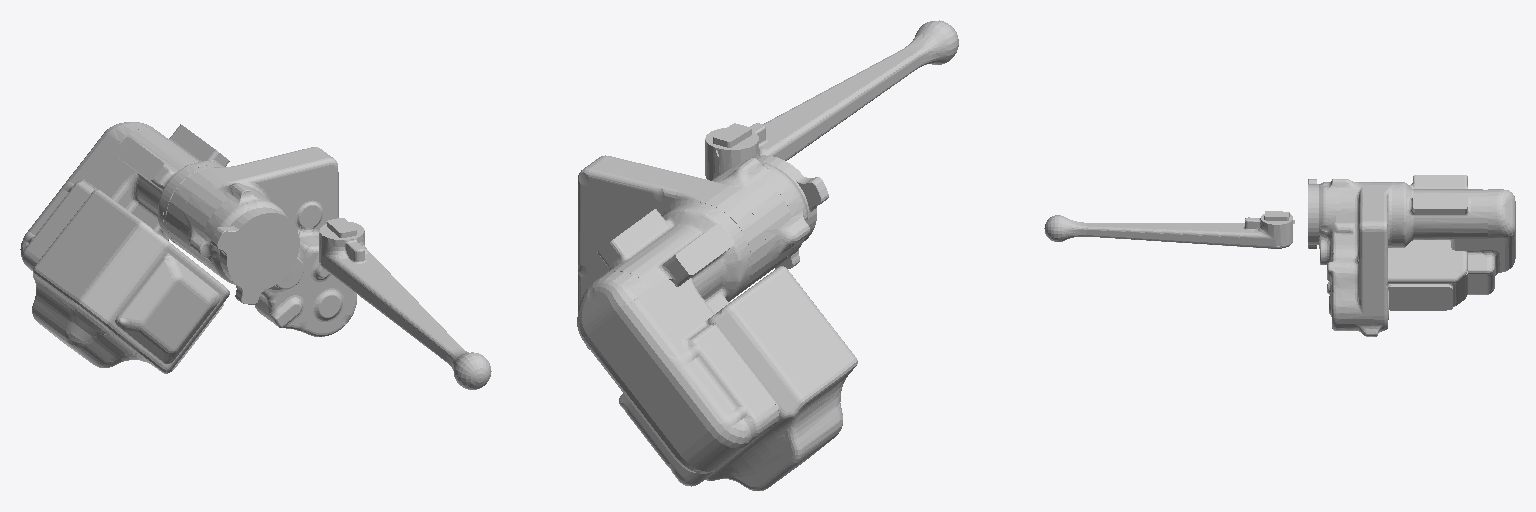
The robot description file, URDF, robot "manipulator":
<?xml version="1.0" ?>
<!-- =================================================================================== -->
<!-- |    This document was autogenerated by xacro from [local-path]/dev/workspace/src/catkin/robots/robot_properties/robot_properties_manipulator/xacro/manipulator.urdf.xacro | -->
<!-- |    EDITING THIS FILE BY HAND IS NOT RECOMMENDED                                 | -->
<!-- =================================================================================== -->
<robot name="manipulator" xmlns:controller="http://playerstage.sourceforge.net/gazebo/xmlschema/#controller" xmlns:interface="http://playerstage.sourceforge.net/gazebo/xmlschema/#interface" xmlns:sensor="http://playerstage.sourceforge.net/gazebo/xmlschema/#sensor" xmlns:xacro="http://playerstage.sourceforge.net/gazebo/xmlschema/#interface">
  <mujoco>
    <compiler balanceinertia="true" discardvisual="false" meshdir="../meshes/stl/"/>
  </mujoco>
  <!-- World Link -->
  <link name="world"/>
  <!-- Dummy Link -->
  <link name="link0"/>
  <joint name="world_joint" type="fixed">
    <parent link="world"/>
    <child link="link0"/>
    <origin rpy="0 0 0" xyz="0 0 0"/>
    <axis xyz="0 0 1"/>
  </joint>
  <joint name="holder_joint" type="fixed">
    <parent link="link0"/>
    <child link="holder_link"/>
    <origin rpy="0 0 0" xyz="0 0 0"/>
  </joint>
  <link name="holder_link">
    <inertial>
      <origin rpy="0 0 0" xyz="0 0 0"/>
      <mass value="0.1"/>
      <inertia ixx="0.000166666666667" ixy="0" ixz="0" iyy="0.000166666666667" iyz="0" izz="0.000166666666667"/>
    </inertial>
    <visual>
      <origin rpy="0 0 0" xyz="0 0 0"/>
      <geometry>
        <mesh filename="package://robot_properties_manipulator/meshes/stl/BL_Finger_Holder_SIM.stl"/>
      </geometry>
      <material name="grey">
        <color rgba="0.8 0.8 0.8 0.8"/>
      </material>
    </visual>
    <collision>
      <origin rpy="0 0 0" xyz="0 0 0"/>
      <geometry>
        <mesh filename="package://robot_properties_manipulator/meshes/stl/BL_Finger_Holder_SIM.stl"/>
      </geometry>
      <material name="grey">
        <color rgba="0.8 0.8 0.8 0.8"/>
      </material>
    </collision>
  </link>
  <joint name="holder_to_stage" type="fixed">
    <parent link="holder_link"/>
    <child link="stage_link"/>
    <origin xyz="0 0 -0.2665"/>
  </joint>
  <link name="stage_link">
    <inertial>
      <origin rpy="0 0 0" xyz="0 0 0"/>
      <mass value="5"/>
      <inertia ixx="0.108333333333" ixy="0" ixz="0" iyy="0.108333333333" iyz="0" izz="0.208333333333"/>
    </inertial>
    <visual>
      <origin rpy="0 0 0" xyz="0 0 0"/>
      <geometry>
        <mesh filename="package://robot_properties_manipulator/meshes/stl/Stage_simplified.stl"/>
      </geometry>
      <material name="grey">
        <color rgba="0.8 0.8 0.8 0.8"/>
      </material>
    </visual>
    <collision>
      <origin rpy="0 0 0" xyz="0 0 0"/>
      <geometry>
        <mesh filename="package://robot_properties_manipulator/meshes/stl/Stage_simplified.stl"/>
      </geometry>
      <material name="grey">
        <color rgba="0.8 0.8 0.8 0.8"/>
      </material>
    </collision>
  </link>
  <joint name="holder_to_proximal" type="revolute">
    <parent link="holder_link"/>
    <child link="proximal_link"/>
    <limit effort="1000" lower="0" upper="3.14159265359" velocity="1000"/>
    <axis rpy="0 0 0" xyz="0 1 0"/>
    <origin rpy="0 -1.5708 0" xyz="0 0 0"/>
  </joint>
  <link name="proximal_link">
    <inertial>
      <origin rpy="0 0 0" xyz="0 0 0"/>
      <mass value="0.18"/>
      <inertia ixx="0.00070431361566" ixy="0" ixz="0" iyy="5.721001566e-05" iyz="0" izz="0.0006948639"/>
    </inertial>
    <visual>
      <origin rpy="0 0 0" xyz="0 0 0"/>
      <geometry>
        <mesh filename="package://robot_properties_manipulator/meshes/stl/SIM__BL-Finger_Proximal.stl"/>
      </geometry>
      <material name="grey">
        <color rgba="0.8 0.8 0.8 0.8"/>
      </material>
    </visual>
    <collision>
      <origin rpy="0 0 0" xyz="0 0 0"/>
      <geometry>
        <mesh filename="package://robot_properties_manipulator/meshes/stl/SIM__BL-Finger_Proximal.stl"/>
      </geometry>
      <material name="grey">
        <color rgba="0.8 0.8 0.8 0.8"/>
      </material>
    </collision>
  </link>
  <joint name="holder_to_base" type="fixed">
    <parent link="holder_link"/>
    <child link="base_link"/>
    <origin xyz="0 0.20595 0"/>
  </joint>
  <link name="base_link">
    <inertial>
      <origin rpy="0 0 0" xyz="0 0 0"/>
      <mass value="0.1"/>
      <inertia ixx="0.000166666666667" ixy="0" ixz="0" iyy="0.000166666666667" iyz="0" izz="0.000166666666667"/>
    </inertial>
    <visual>
      <origin rpy="0 0 0" xyz="0 0 0"/>
      <geometry>
        <mesh filename="package://robot_properties_manipulator/meshes/stl/SIM__BL-Finger_Base.stl"/>
      </geometry>
      <material name="grey">
        <color rgba="0.8 0.8 0.8 0.8"/>
      </material>
    </visual>
    <collision>
      <origin rpy="0 0 0" xyz="0 0 0"/>
      <geometry>
        <mesh filename="package://robot_properties_manipulator/meshes/stl/SIM__BL-Finger_Base.stl"/>
      </geometry>
      <material name="grey">
        <color rgba="0.8 0.8 0.8 0.8"/>
      </material>
    </collision>
  </link>
  <joint name="proximal_to_intermediate" type="revolute">
    <parent link="proximal_link"/>
    <child link="intermediate_link"/>
    <limit effort="1000" lower="-5.846853" upper="0" velocity="1000"/>
    <axis rpy="0 0 0" xyz="1 0 0"/>
    <origin rpy="2.9234265 0 0" xyz="0.014 0.02695 0"/>
  </joint>
  <link name="intermediate_link">
    <inertial>
      <origin rpy="0 0 0" xyz="0 0 0"/>
      <mass value="0.18"/>
      <inertia ixx="0.00066594546264" ixy="0" ixz="0" iyy="5.573961264e-05" iyz="0" izz="0.00066287415"/>
    </inertial>
    <visual>
      <origin rpy="0 0 0" xyz="0 0 0"/>
      <geometry>
        <mesh filename="package://robot_properties_manipulator/meshes/stl/SIM__BL-Finger_Intermediate.stl"/>
      </geometry>
      <material name="grey">
        <color rgba="0.8 0.8 0.8 0.8"/>
      </material>
    </visual>
    <collision>
      <origin rpy="0 0 0" xyz="0 0 0"/>
      <geometry>
        <mesh filename="package://robot_properties_manipulator/meshes/stl/SIM__BL-Finger_Intermediate.stl"/>
      </geometry>
      <material name="grey">
        <color rgba="0.8 0.8 0.8 0.8"/>
      </material>
    </collision>
  </link>
  <joint name="intermediate_to_tip" type="revolute">
    <parent link="intermediate_link"/>
    <child link="tip_link"/>
    <limit effort="1000" lower="0" upper="6.00394" velocity="1000"/>
    <axis rpy="0 0 0" xyz="1 0 0"/>
    <origin rpy="-3.00197 0 0" xyz="0 -0.16 0"/>
  </joint>
  <link name="tip_link">
    <inertial>
      <origin rpy="0 0 0" xyz="0 0 0"/>
      <mass value="0.02"/>
      <inertia ixx="5.6775e-05" ixy="0" ixz="0" iyy="2.20369748167e-06" iyz="0" izz="5.70586974817e-05"/>
    </inertial>
    <visual>
      <origin rpy="0 0 0" xyz="0 0 0"/>
      <geometry>
        <mesh filename="package://robot_properties_manipulator/meshes/stl/SIM_BL_FINGER_TIP_LINK.stl"/>
      </geometry>
      <material name="grey">
        <color rgba="0.8 0.8 0.8 0.8"/>
      </material>
    </visual>
    <collision>
      <origin rpy="0 0 0" xyz="0 0 0"/>
      <geometry>
        <mesh filename="package://robot_properties_manipulator/meshes/stl/SIM_BL_FINGER_TIP_LINK.stl"/>
      </geometry>
      <material name="grey">
        <color rgba="0.8 0.8 0.8 0.8"/>
      </material>
    </collision>
  </link>
  <joint name="tip_to_padding" type="fixed">
    <parent link="tip_link"/>
    <child link="padding_link"/>
    <origin xyz="-0.0125 -0.16 0"/>
  </joint>
  <link name="padding_link">
    <inertial>
      <origin rpy="0 0 0" xyz="0 0 0"/>
      <mass value="0.005"/>
      <inertia ixx="8.33333333333e-08" ixy="0" ixz="0" iyy="8.33333333333e-08" iyz="0" izz="8.33333333333e-08"/>
    </inertial>
    <visual>
      <origin rpy="0 0 0" xyz="0 0 0"/>
      <geometry>
        <mesh filename="package://robot_properties_manipulator/meshes/stl/finger_padding.stl"/>
      </geometry>
      <material name="grey">
        <color rgba="0.8 0.8 0.8 0.8"/>
      </material>
    </visual>
    <collision>
      <origin rpy="0 0 0" xyz="0 0 0"/>
      <geometry>
        <mesh filename="package://robot_properties_manipulator/meshes/stl/finger_padding.stl"/>
      </geometry>
      <material name="grey">
        <color rgba="0.8 0.8 0.8 0.8"/>
      </material>
    </collision>
  </link>
  <!--    <actuator>
        <motor name="holder_to_proximal"        gear="100" joint="holder_to_proximal" />
        <motor name="proximal_to_intermediate"  gear="100" joint="proximal_to_intermediate" />
        <motor name="intermediate_to_tip"       gear="100" joint="intermediate_to_tip" />
    </actuator>-->
  <transmission name="holder_to_proximal">
    <joint name="holder_to_proximal"/>
    <actuator name="holder_to_proximal">
      <mechanicalReduction>50</mechanicalReduction>
    </actuator>
  </transmission>
</robot>

--- Facts derived from the render (not from the file) ---
Views: 3 orthographic renders of the robot side by side, from view 1: azimuth 30°, elevation 25°; view 2: azimuth 150°, elevation 25°; view 3: azimuth 270°, elevation 25°.
Robot: manipulator — 9 links, 8 joints (3 revolute, 5 fixed); root link world; default pose: all joints at 0.
Visible links, largest first — view 1: base_link, tip_link; view 2: base_link, tip_link; view 3: base_link, tip_link.
Link boxes in pixels (x1,y1,x2,y2): base_link: [20, 122, 356, 373]; tip_link: [319, 218, 491, 389]; base_link: [577, 155, 857, 490]; tip_link: [705, 20, 958, 180]; base_link: [1308, 175, 1515, 336]; tip_link: [1044, 211, 1294, 248].
Bounding box of the posed robot: 0.1463 × 0.3434 × 0.1175 m (x, y, z).
Meshes: 7 distinct files referenced, 2 mesh visuals loaded (2 binary STL); not drawn: 5 (reference not matched to a file when rendering).